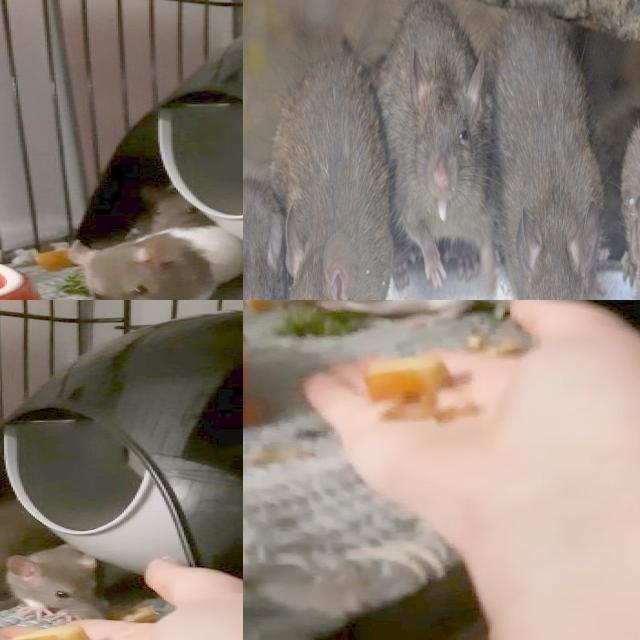rat: (366, 0, 503, 290), (478, 3, 609, 300), (273, 79, 396, 300), (63, 220, 243, 300), (2, 539, 112, 624), (273, 300, 490, 326), (243, 154, 278, 300), (0, 507, 54, 594), (142, 185, 220, 240)
